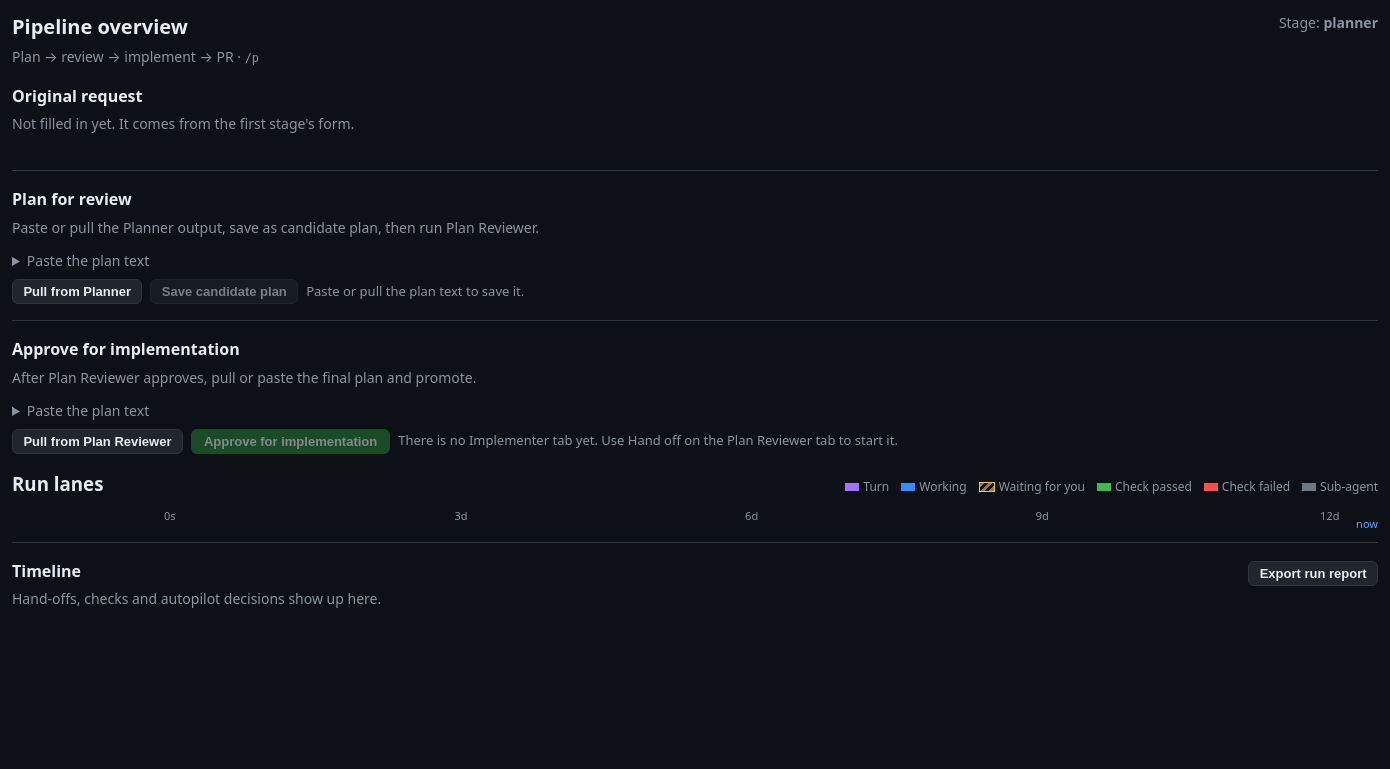
PipelineOverview › pulls a terminal Planner's selection, and explains when nothing is readable
Click the button "Pull from Planner": [77, 292] box [12,279,142,304]
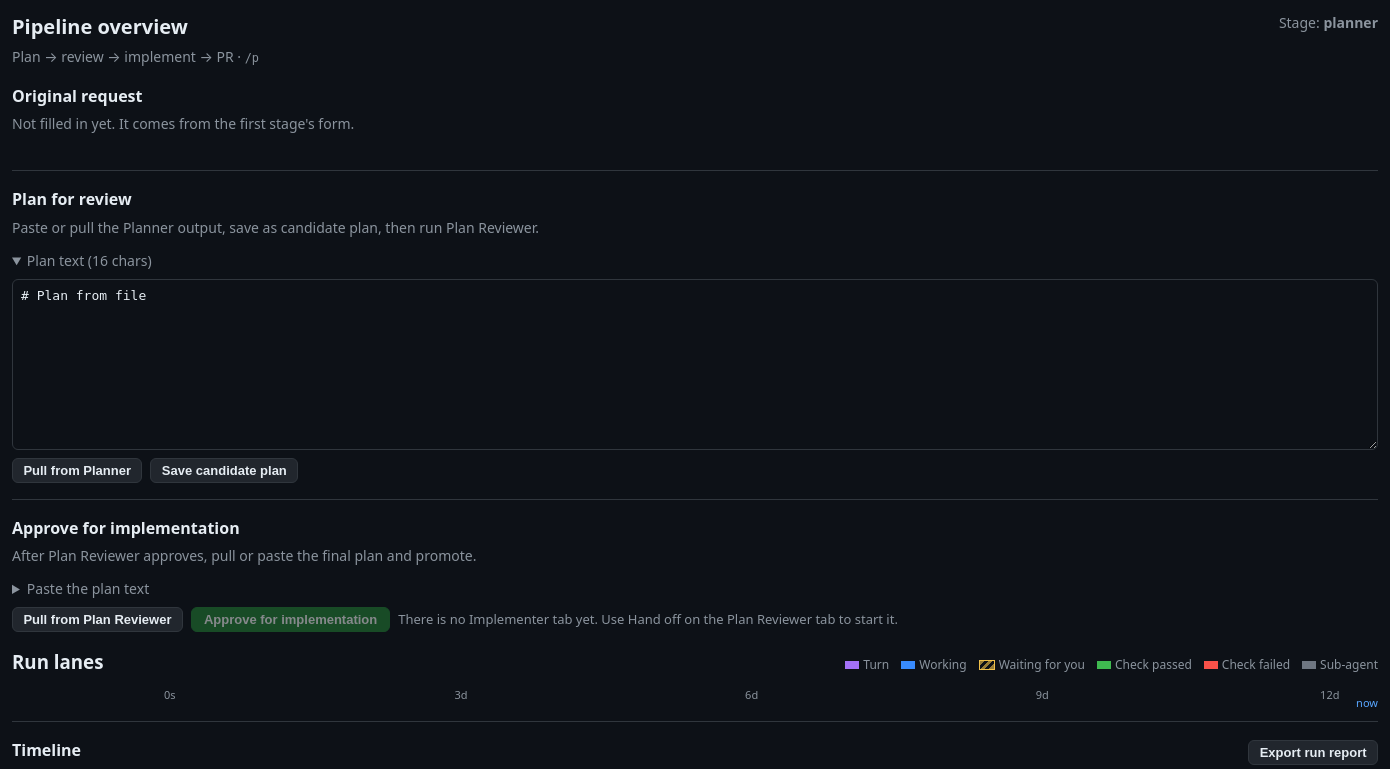
Expected: the text box holds "# Plan from file", [12,279,1378,450]
